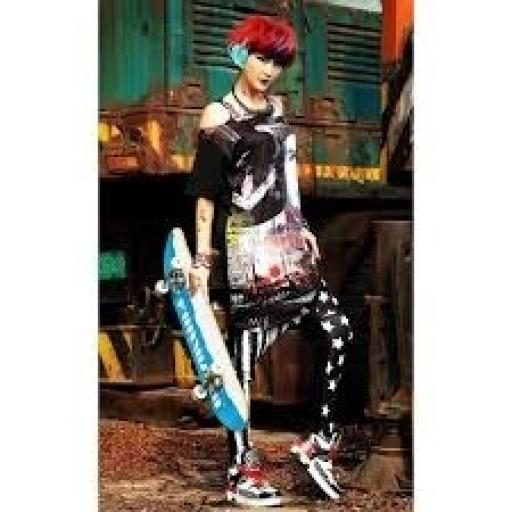dancing: (182, 11, 360, 510)
